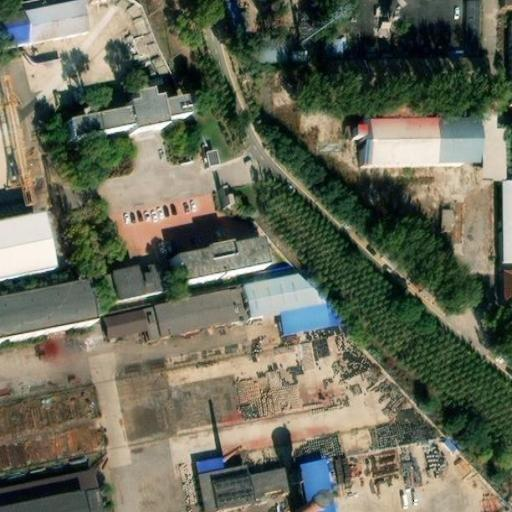building: (359, 114, 481, 169), (63, 96, 188, 143), (170, 240, 269, 287), (0, 467, 99, 512), (155, 288, 246, 334), (199, 463, 291, 508), (246, 274, 327, 319), (23, 0, 89, 47), (104, 260, 163, 299), (299, 457, 335, 512), (279, 304, 334, 334), (480, 113, 506, 175), (105, 307, 146, 334), (500, 10, 512, 80), (256, 36, 287, 62), (438, 203, 459, 239), (320, 34, 348, 58), (142, 305, 161, 339), (505, 185, 512, 269), (196, 454, 224, 473), (207, 150, 222, 168), (506, 269, 512, 299)
